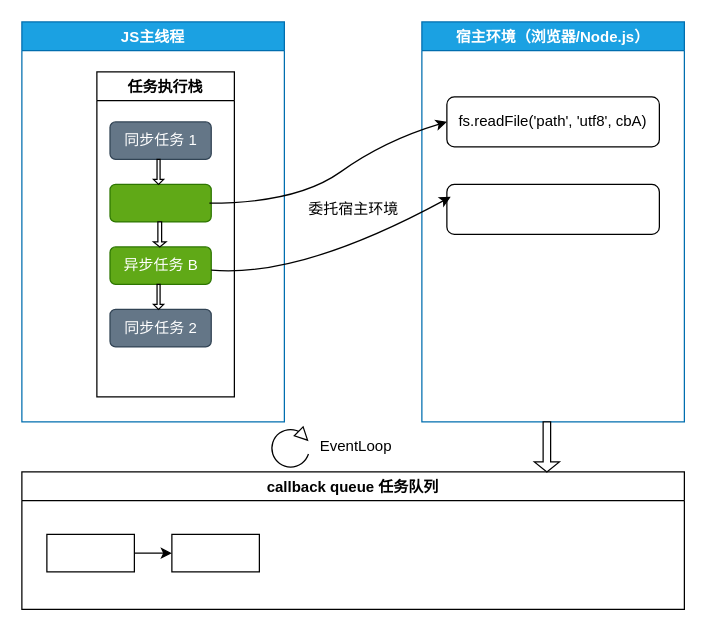
Image size: 706x631. Some labels were removed from this diagram. Each missing label, with the centre of its shape:
cbA: (x=215, y=552)
cbC: (x=90, y=552)
setTimeout(cbC, 0): (x=552, y=208)
异步任务 A: (x=160, y=202)
